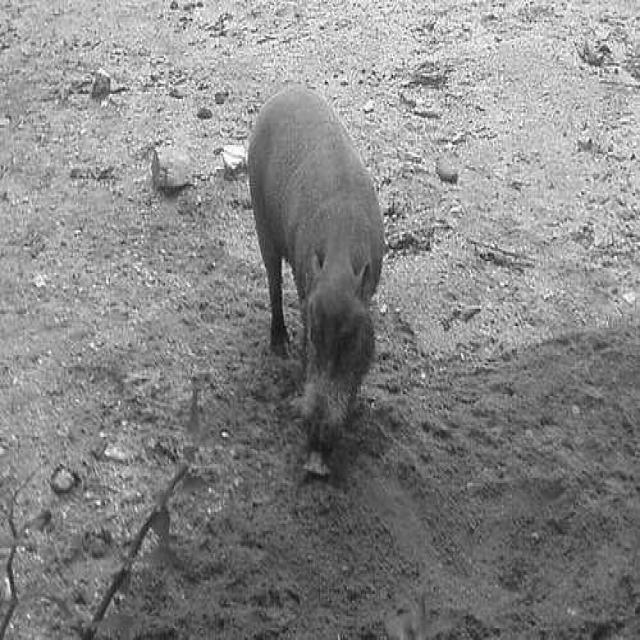boar: (250, 89, 384, 477)
